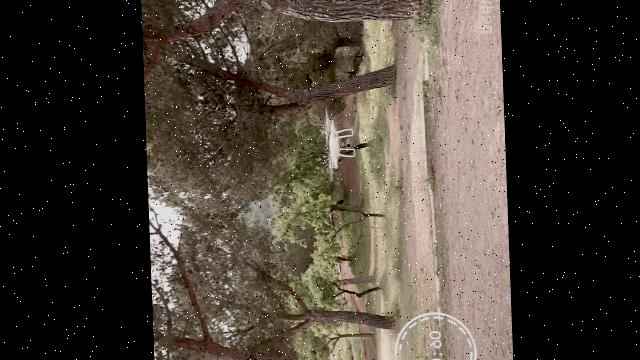drone: (321, 104, 354, 182)
